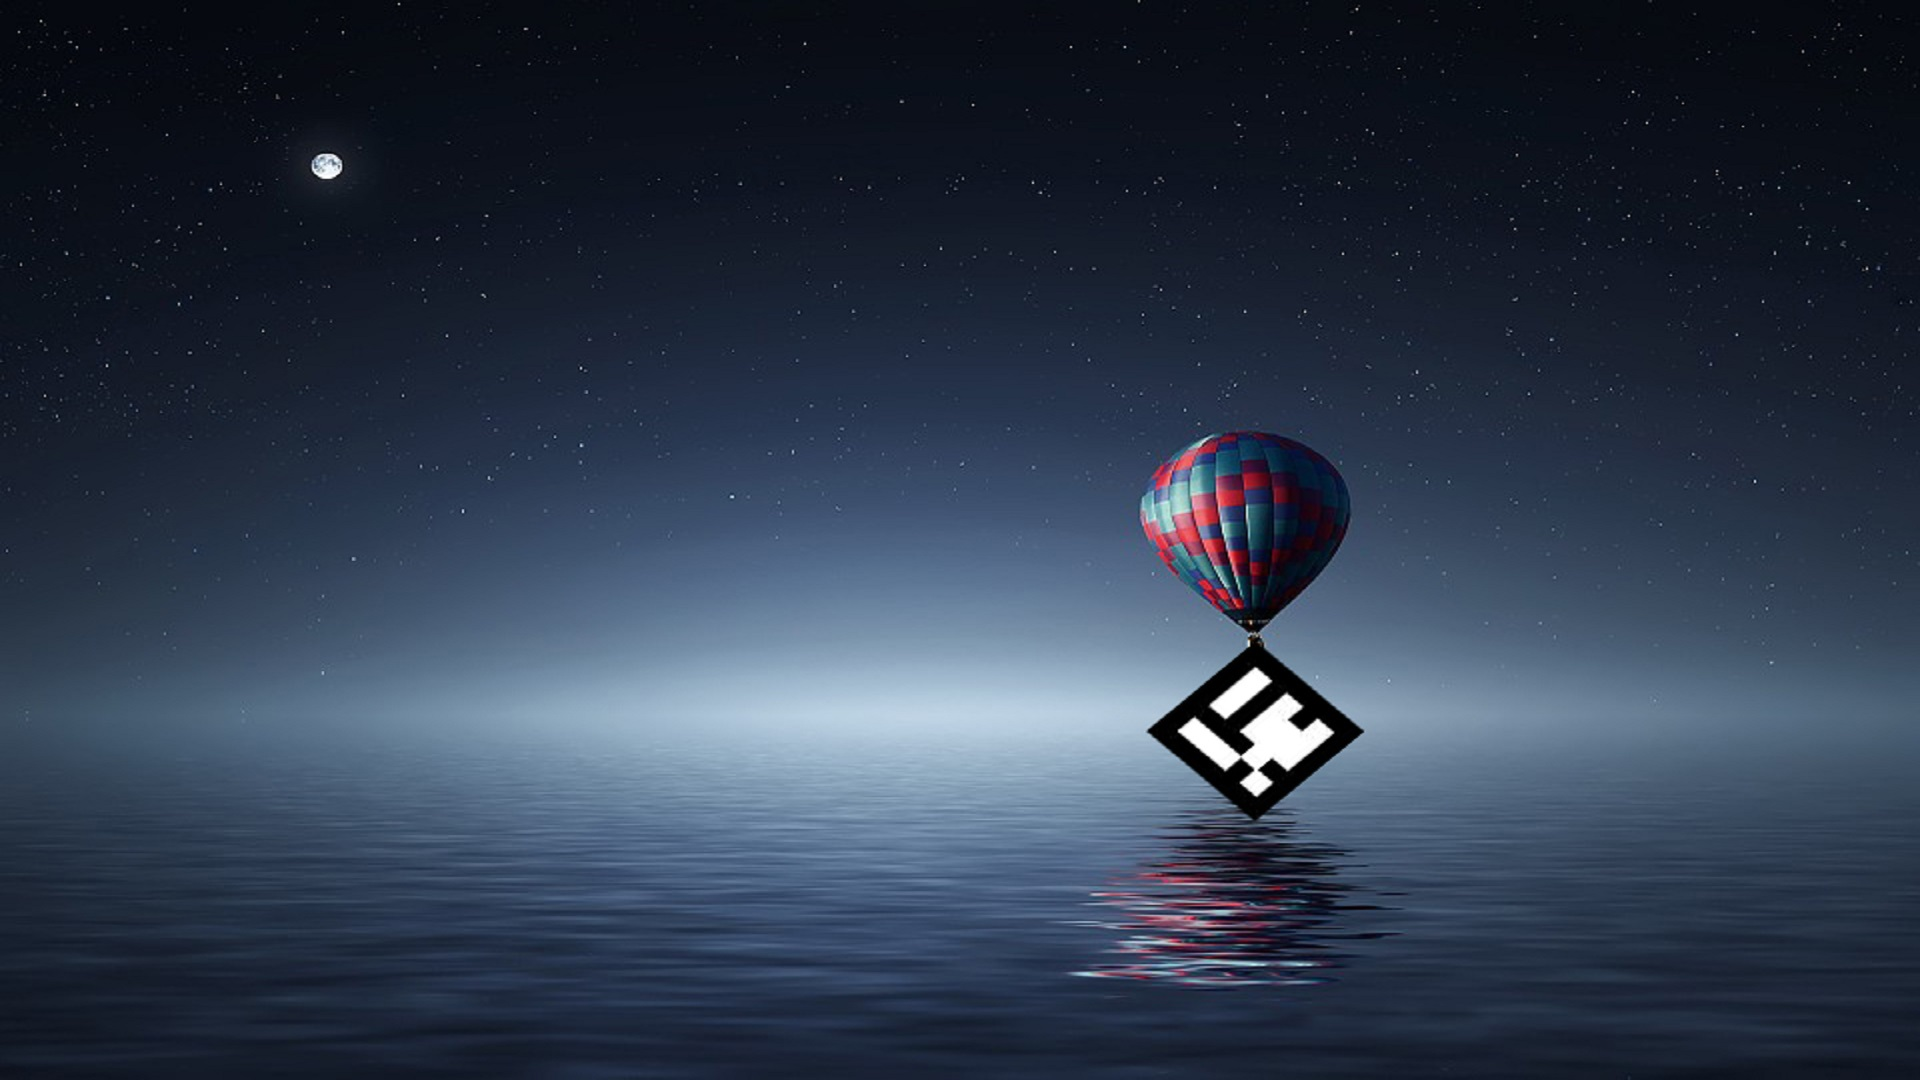marker: (1145, 640, 1367, 822)
